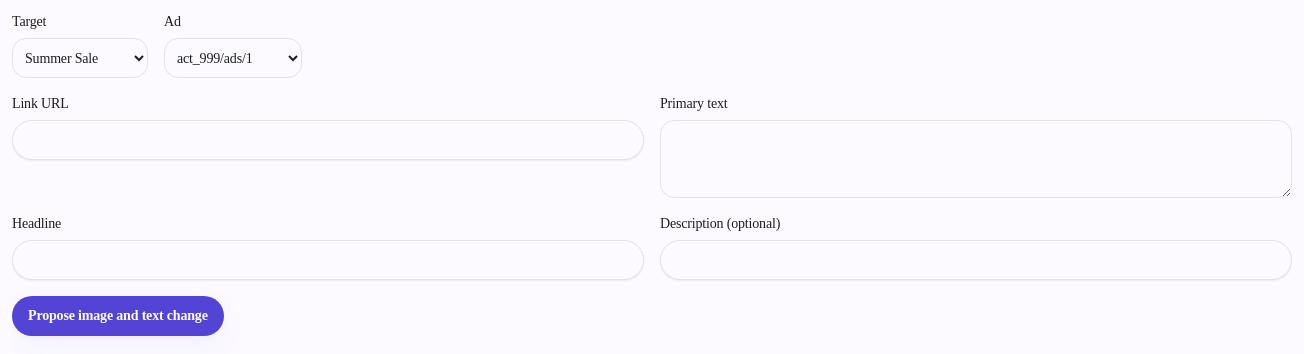
Test: AutomationProposeMetaAdCreativeEditForm › shows an inline error and does not refresh when the request fails
The width and height of the screenshot is (1304, 354).
Type "https://example.com/widgets" into the field labelled "Link URL" at [328, 140], box [12,120,644,160]
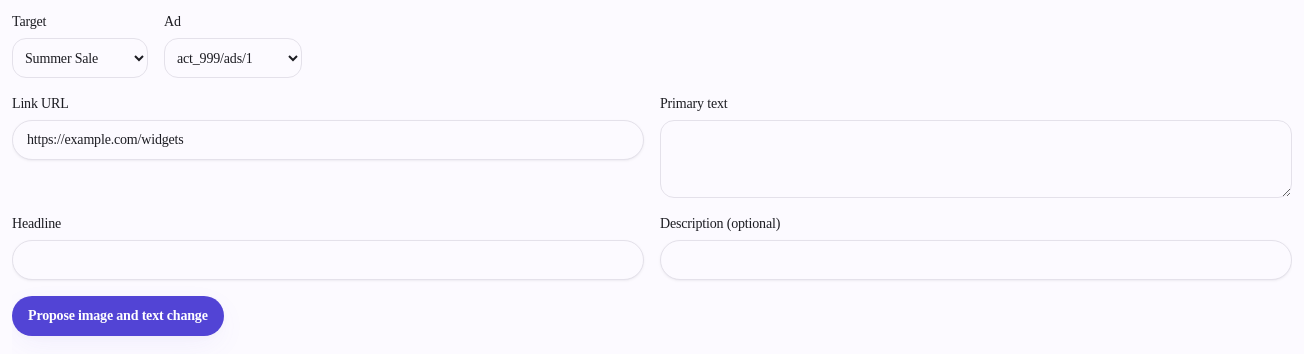
Type "Even bigger savings." into the text box labelled "Primary text" at [976, 159], box [660,120,1292,198]
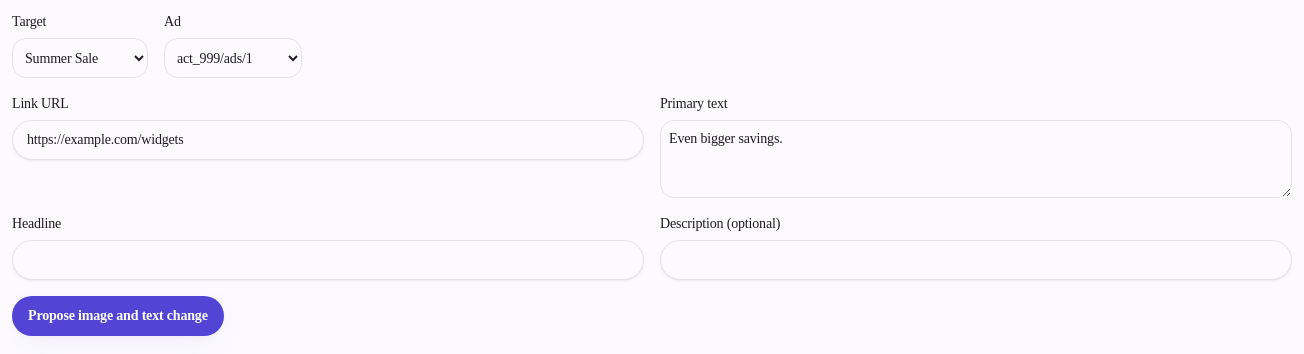
Type "Blue Widgets Mega Sale" into the field labelled "Headline" at [328, 260], box [12,240,644,280]
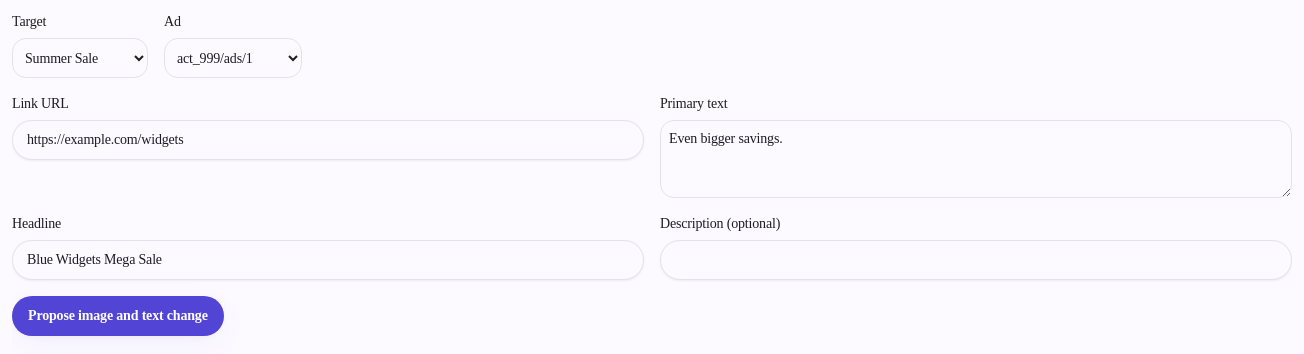
Click the button "Propose image and text change" at [118, 316], box [12,296,224,336]
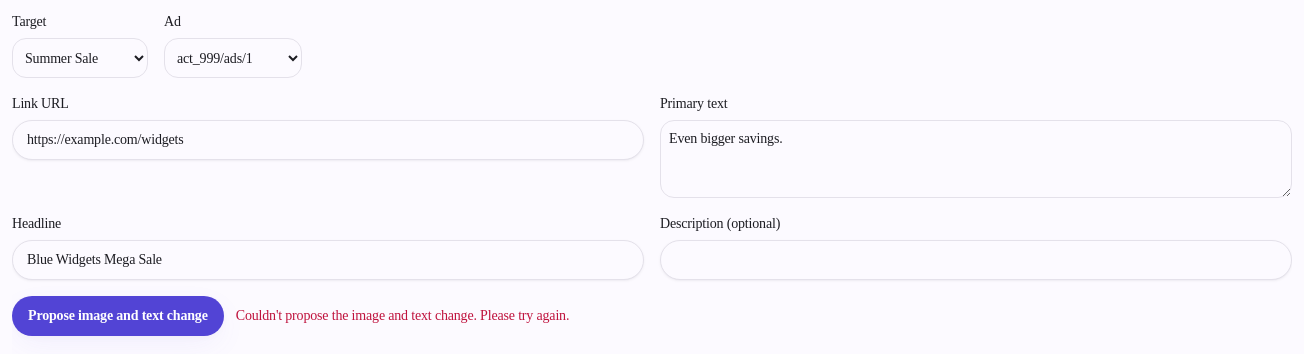
Expected: the message reads "Couldn't propose the image and text change. Please try again.", [236,308,569,323]
